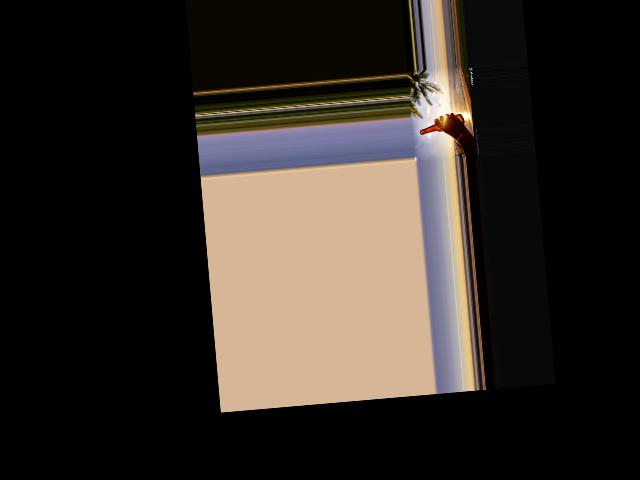beer: (419, 113, 465, 135)
